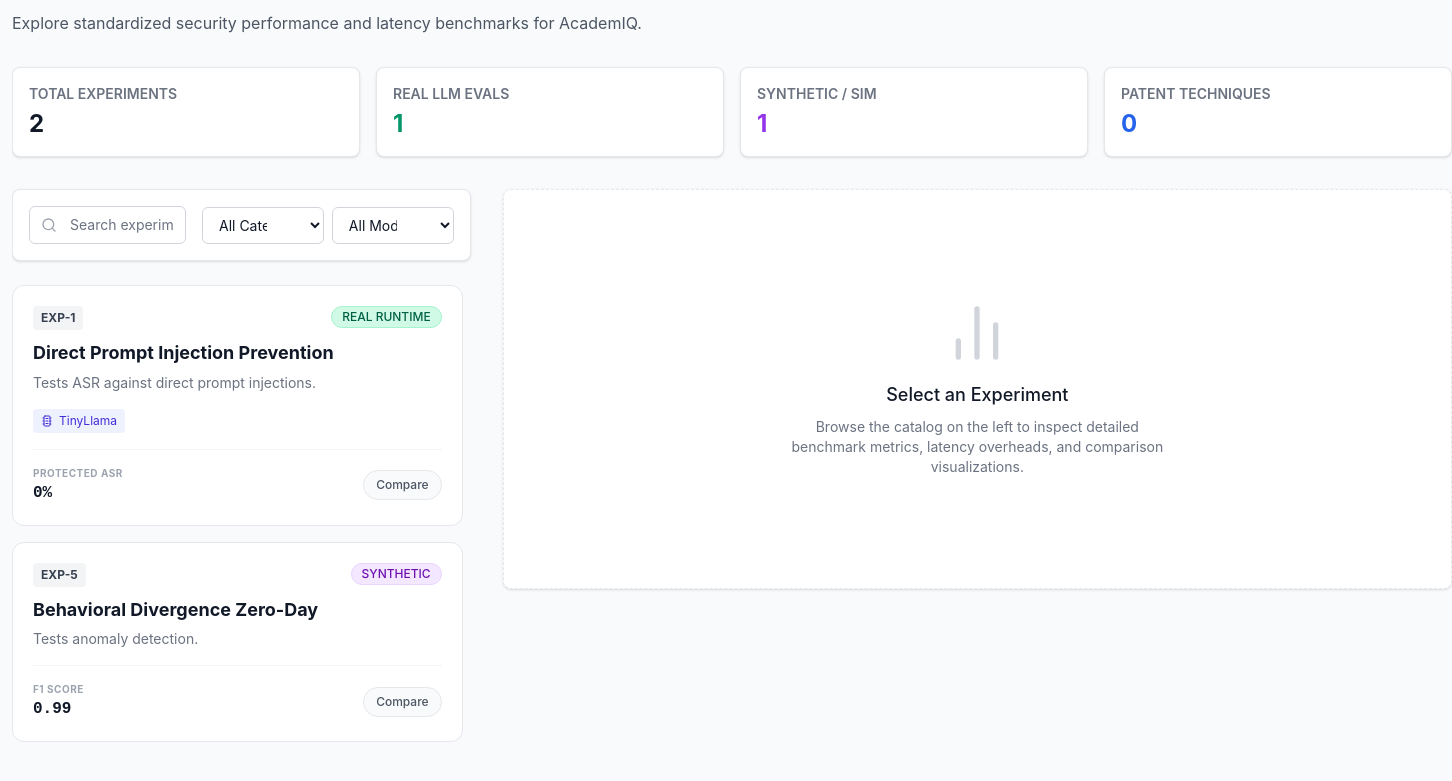
Test: ExperimentsPage Tests › fetches and displays experiment detail view
Click the heading "Direct Prompt Injection Prevention": (183, 352) top-left (33, 342), bottom-right (334, 363)
(page scrolled)
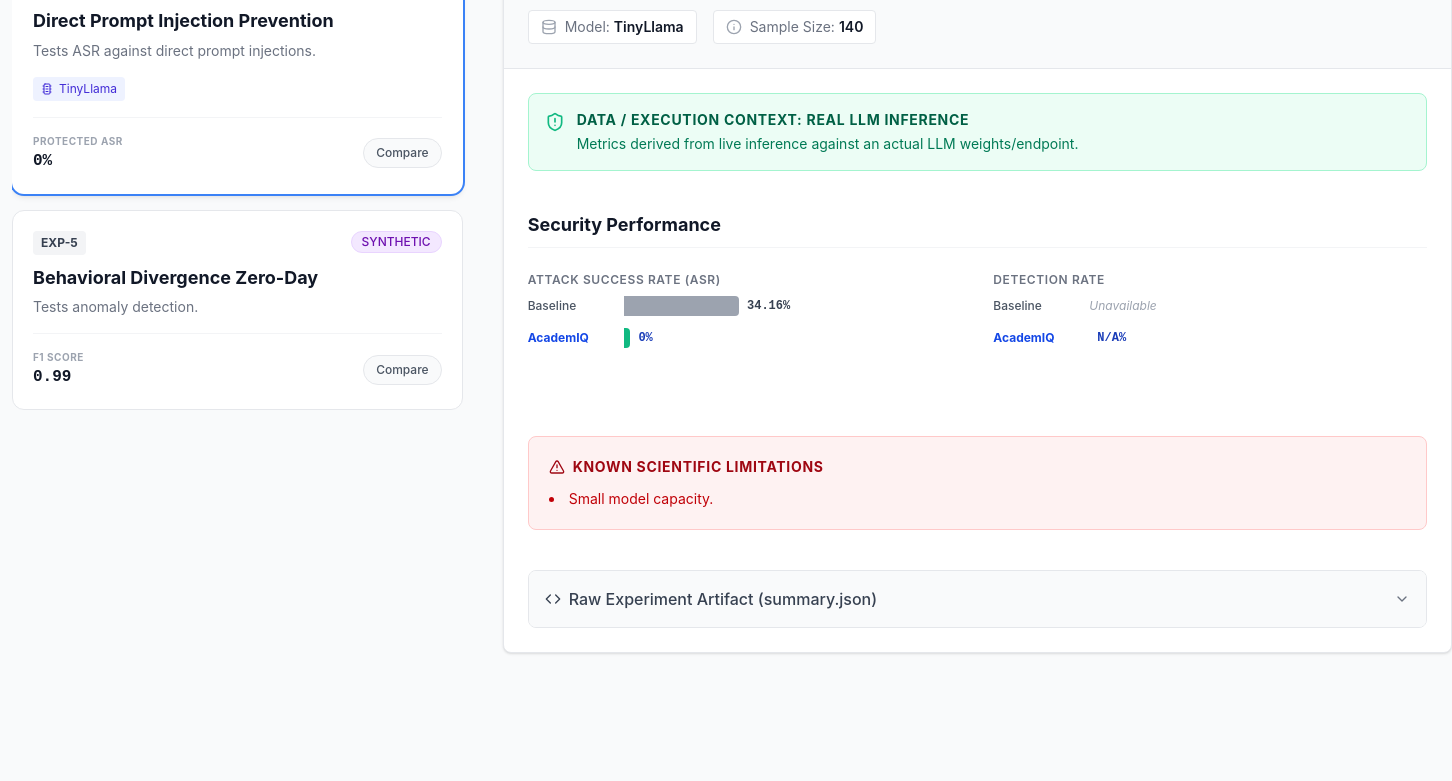
Now the heading "Data / Execution Context: REAL LLM INFERENCE" is shown, box top-left (577, 111), bottom-right (969, 128)
Now the text "140" is shown, box top-left (839, 17), bottom-right (863, 37)
Now the text "34.16%" is shown, box top-left (747, 298), bottom-right (790, 314)
